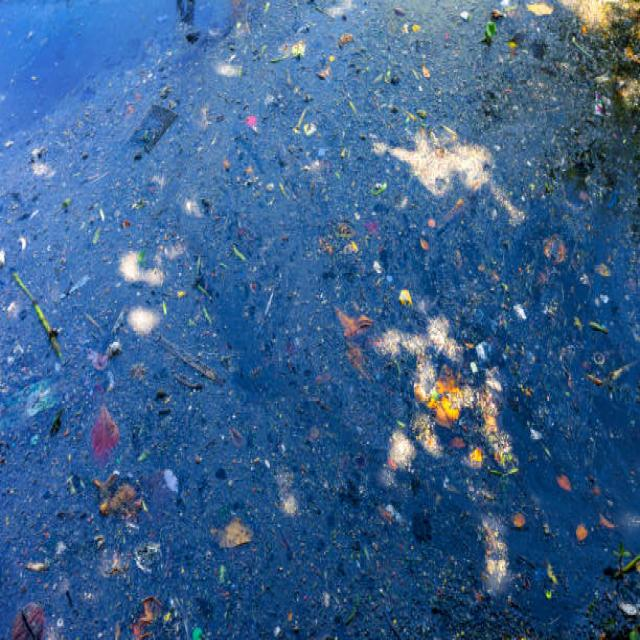garbage: (285, 0, 529, 502), (1, 158, 231, 630)
